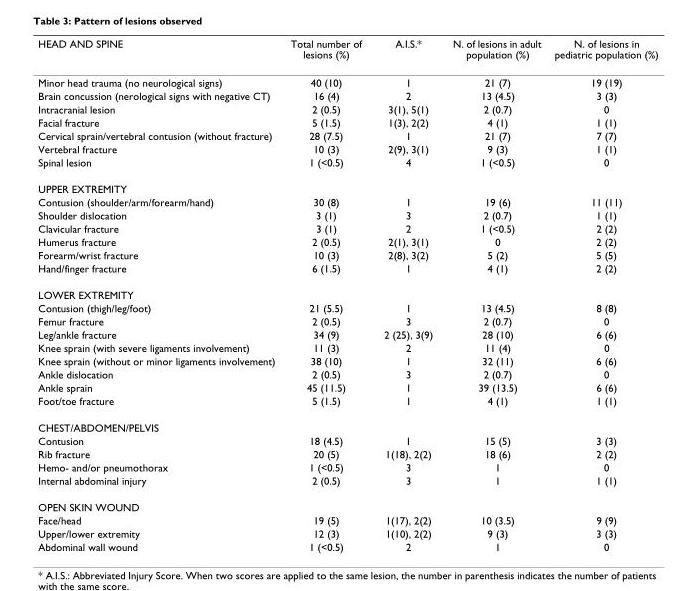table: (37, 37, 657, 552)
table column: (37, 37, 282, 552), (547, 37, 657, 552), (442, 37, 547, 552), (282, 37, 372, 552), (372, 37, 442, 552)
table column header: (37, 37, 657, 68)
table projected row header: (37, 413, 657, 433), (37, 493, 657, 513), (37, 175, 657, 194), (37, 281, 657, 300)
table row: (37, 37, 657, 68), (37, 68, 657, 88), (37, 155, 657, 175), (37, 261, 657, 281), (37, 393, 657, 413), (37, 413, 657, 433), (37, 473, 657, 493), (37, 493, 657, 513), (37, 175, 657, 194), (37, 281, 657, 300), (37, 88, 657, 102), (37, 141, 657, 155), (37, 194, 657, 208), (37, 247, 657, 261), (37, 300, 657, 314), (37, 340, 657, 354), (37, 446, 657, 460), (37, 102, 657, 115), (37, 115, 657, 128), (37, 128, 657, 141), (37, 208, 657, 221), (37, 221, 657, 234), (37, 234, 657, 247), (37, 314, 657, 327), (37, 327, 657, 340), (37, 354, 657, 367), (37, 367, 657, 380), (37, 380, 657, 393), (37, 433, 657, 446), (37, 460, 657, 473), (37, 513, 657, 526), (37, 526, 657, 539), (37, 539, 657, 552)
